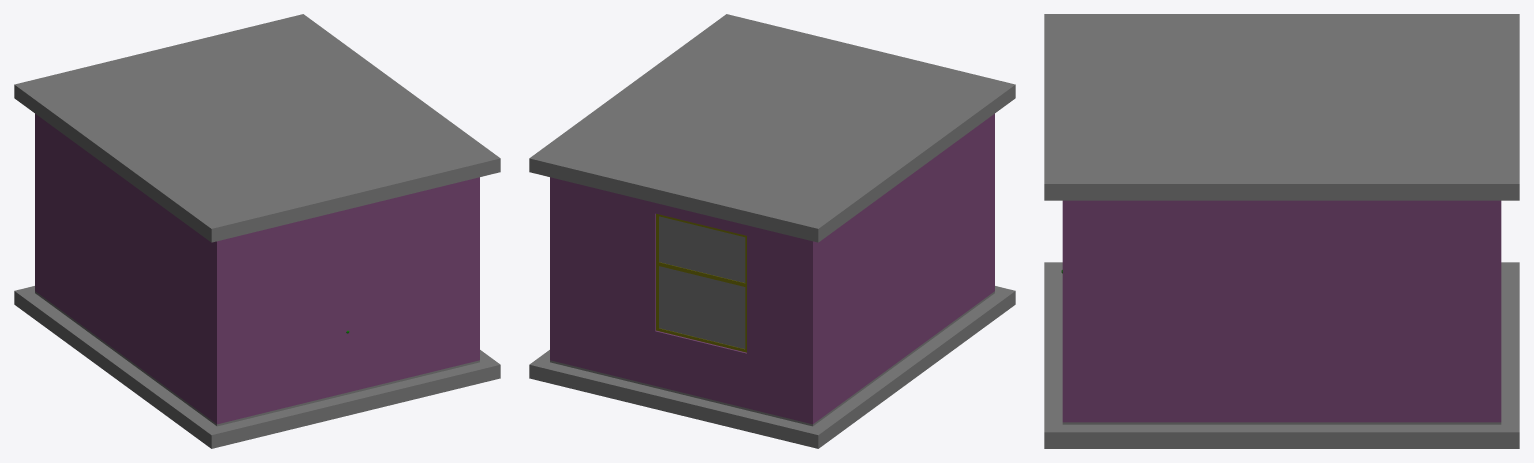
The model's file is FloorPlan321.fbx.
3 renders of one model, left to right at view 1: azimuth 30°, elevation 25°; view 2: azimuth 150°, elevation 25°; view 3: azimuth 270°, elevation 25°, orthographic. The views are drawn at different scales.
Visible parts, largest first — view 1: StandardWallSize, Ceiling, Floor; view 2: StandardWallSize, Ceiling, Floor, Window; view 3: StandardWallSize, Ceiling, Floor.
Boxes of the visible parts, bbox=[...] form: StandardWallSize: bbox=[35, 113, 479, 426]; Ceiling: bbox=[14, 14, 500, 242]; Floor: bbox=[14, 286, 500, 448]; StandardWallSize: bbox=[550, 113, 994, 426]; Ceiling: bbox=[529, 14, 1015, 242]; Floor: bbox=[529, 286, 1015, 448]; Window: bbox=[656, 214, 746, 352]; StandardWallSize: bbox=[1062, 200, 1501, 424]; Ceiling: bbox=[1044, 14, 1519, 200]; Floor: bbox=[1044, 262, 1519, 448].
Bounding box in the file's own units: 440 × 320 × 520.
